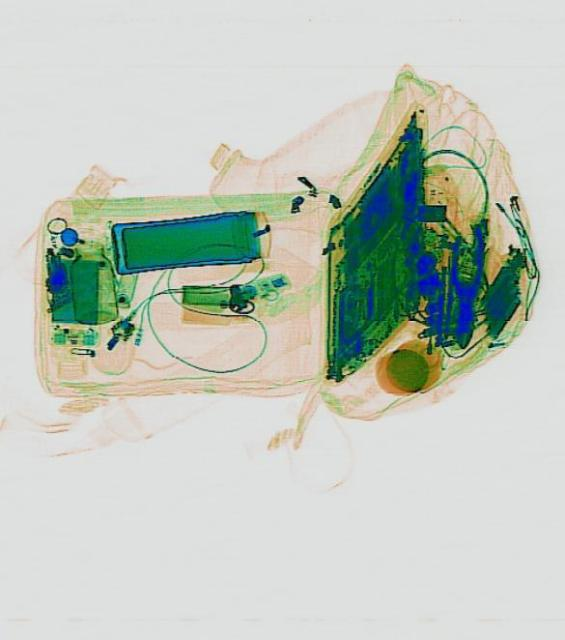Pliers: (444, 225, 484, 345)
